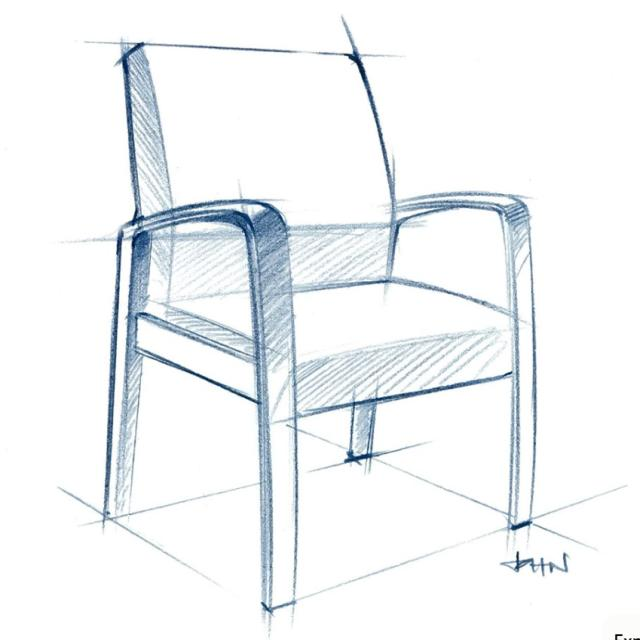Armrest: (114, 198, 297, 367), (396, 191, 536, 322)
Backrest: (121, 42, 396, 303)
Leg_Structure: (101, 331, 538, 632)
Seat: (135, 275, 538, 415)
